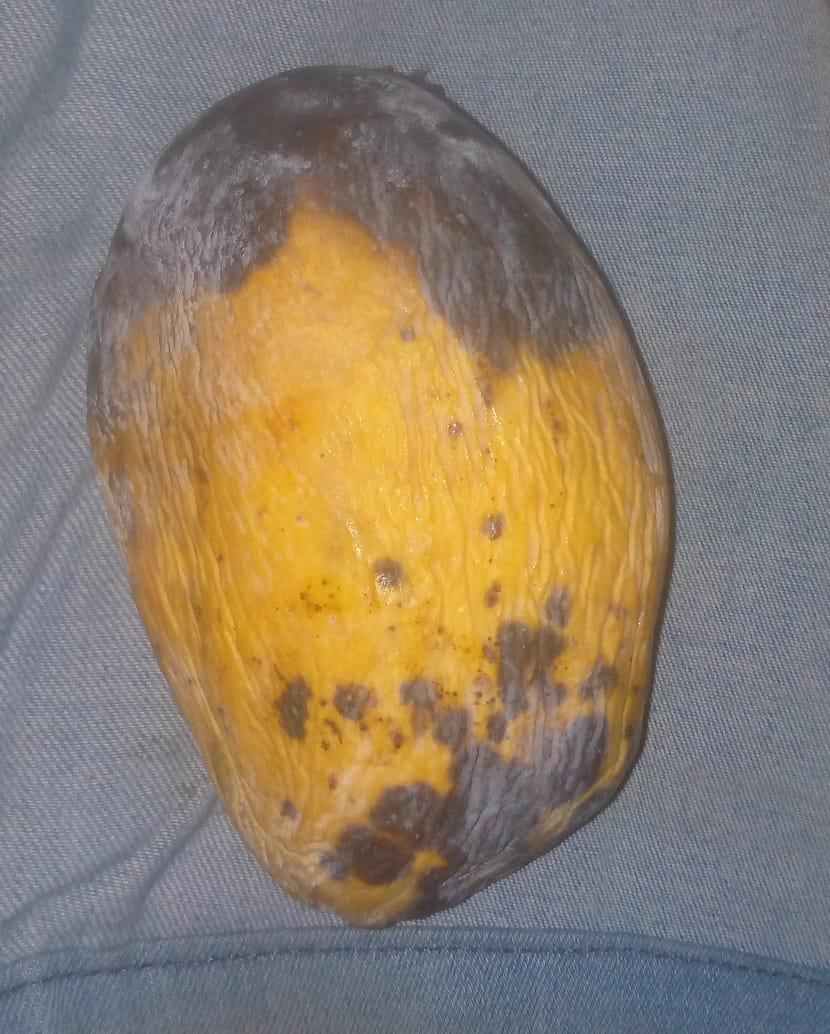mango: (84, 62, 677, 929)
